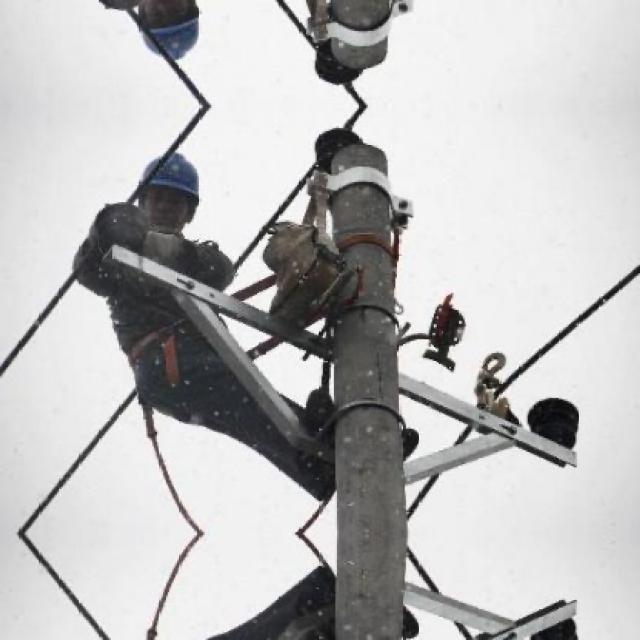helmet: (125, 143, 208, 239), (123, 0, 208, 71)
